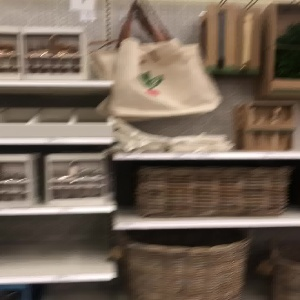void: (1, 212, 109, 278)
